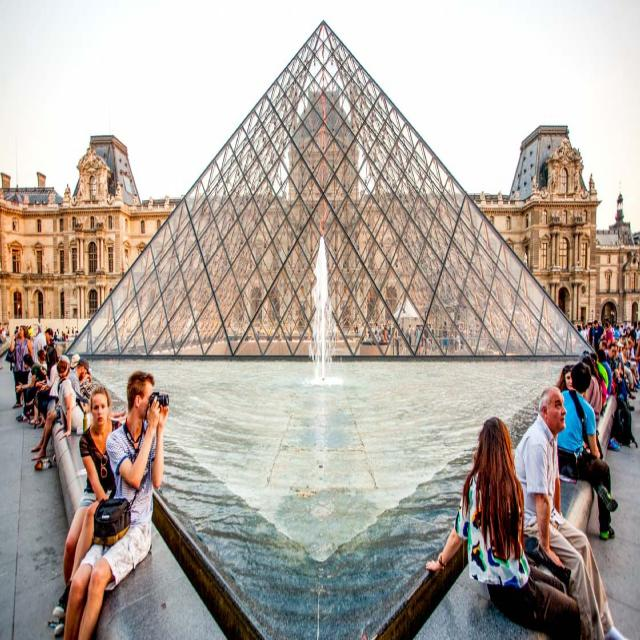body: (423, 414, 582, 640), (49, 367, 170, 639), (509, 382, 636, 639), (49, 383, 133, 639), (556, 360, 619, 542), (53, 358, 129, 443), (29, 354, 72, 463), (354, 318, 465, 353), (561, 359, 597, 442), (15, 352, 49, 424), (7, 322, 33, 411), (605, 342, 636, 412), (577, 317, 638, 342), (589, 356, 608, 418), (67, 358, 90, 408), (555, 363, 588, 397), (615, 342, 636, 394), (618, 346, 638, 392), (589, 351, 610, 390), (596, 347, 612, 398), (32, 327, 54, 364), (621, 341, 640, 378), (52, 323, 79, 343), (592, 318, 605, 351), (598, 339, 611, 366), (629, 319, 638, 356), (36, 349, 48, 376), (36, 348, 48, 373), (586, 321, 593, 362), (618, 322, 627, 353), (634, 318, 639, 368), (604, 321, 613, 348), (69, 351, 82, 368), (27, 323, 34, 352), (36, 315, 42, 347), (550, 165, 557, 192), (0, 320, 7, 344), (63, 183, 70, 202), (522, 251, 528, 273), (25, 257, 32, 275), (614, 324, 621, 338), (43, 257, 48, 275), (580, 310, 584, 330), (9, 362, 14, 376), (581, 348, 589, 356), (20, 390, 23, 406), (14, 325, 18, 334), (44, 324, 47, 330)
